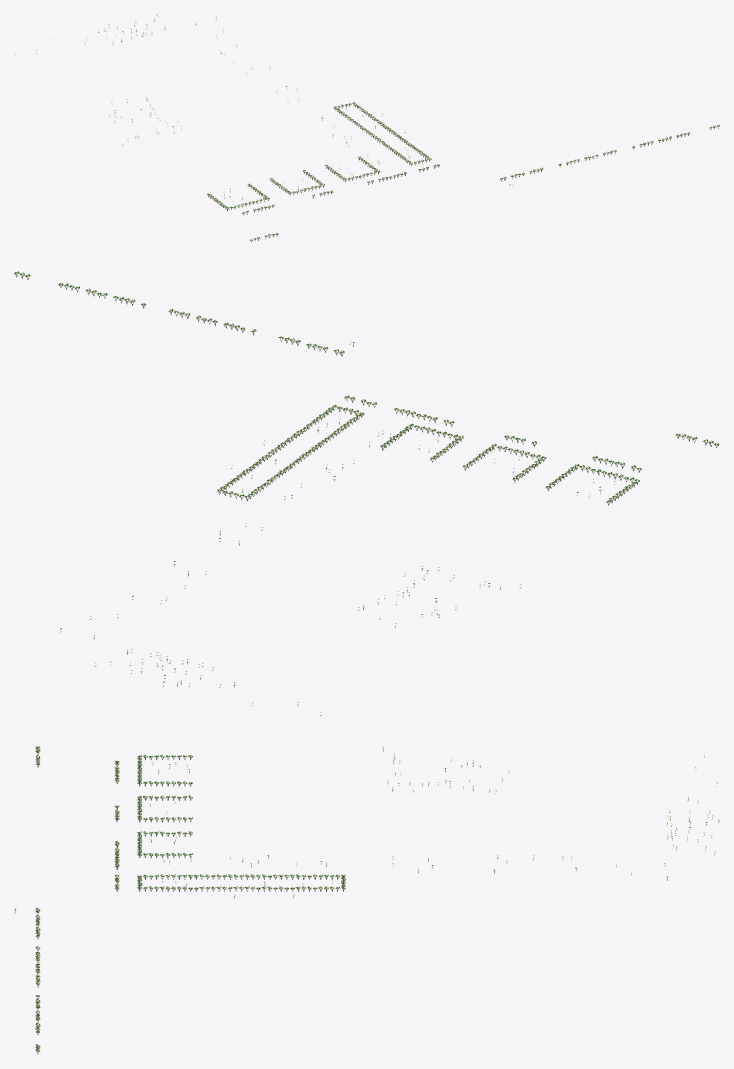
The picture shows the model from 3 angles, top to bottom: view 1: azimuth 30°, elevation 25°; view 2: azimuth 150°, elevation 25°; view 3: azimuth 270°, elevation 25°; orthographic projection. The views are drawn at different scales.
Parts seen in each view (by area): view 1: GROUND_FLORA_s_-5_2; view 2: GROUND_FLORA_s_-5_2; view 3: GROUND_FLORA_s_-5_2.
Boxes of the visible parts, x1,y1,x2,y2 form: GROUND_FLORA_s_-5_2: [14, 14, 719, 242]; GROUND_FLORA_s_-5_2: [14, 271, 719, 715]; GROUND_FLORA_s_-5_2: [14, 746, 719, 1053].
Size of the model in its own units: 128 by 0.9729 by 125.
